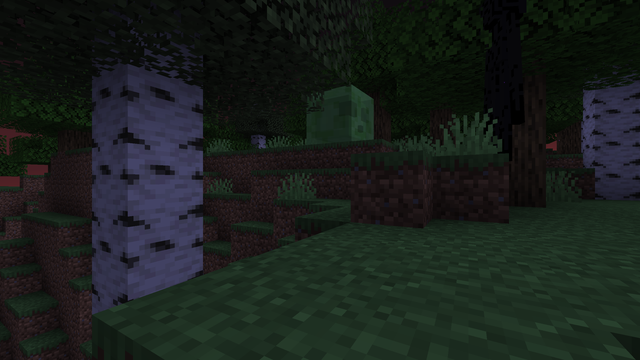endermens: (480, 0, 525, 158)
slimes: (305, 81, 373, 144)
